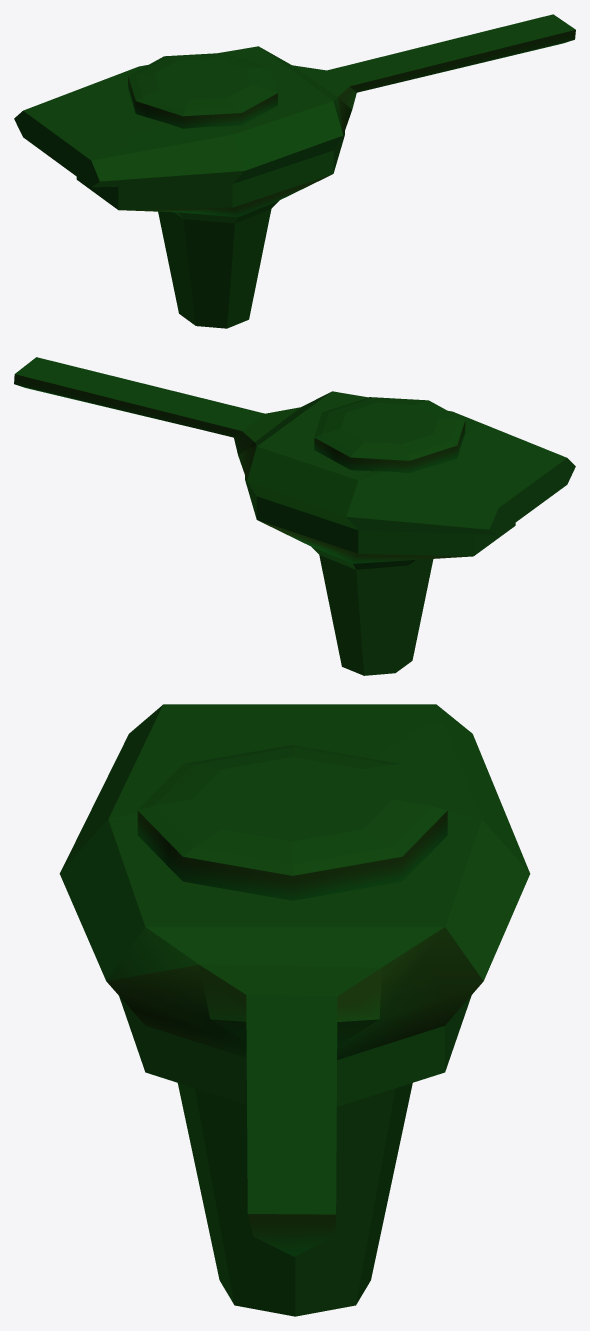
File: mrcannon.obj
The picture shows the model from 3 angles, top to bottom: view 1: azimuth 30°, elevation 25°; view 2: azimuth 150°, elevation 25°; view 3: azimuth 270°, elevation 25°; orthographic projection. The views are drawn at different scales.
Visible parts, largest first — view 1: Cylinder013; view 2: Cylinder013; view 3: Cylinder013.
Boxes of the visible parts, <box> form: Cylinder013: <box>14,14,575,328</box>; Cylinder013: <box>14,357,575,675</box>; Cylinder013: <box>59,704,530,1316</box>.
Size of the model in its own units: 45.99 by 20.63 by 18.52.
